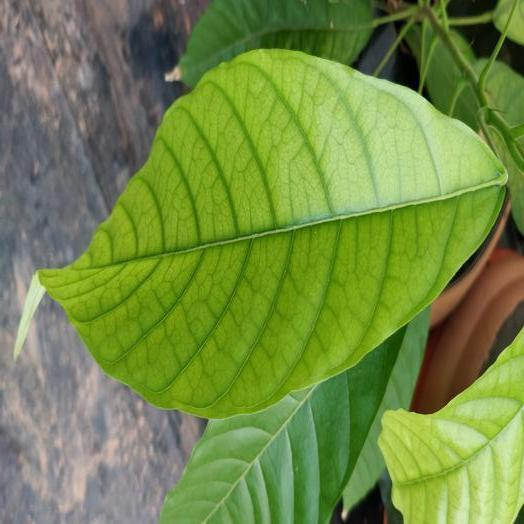Healthy Leaf: (159, 314, 426, 523), (175, 0, 372, 86)
Iron: (30, 50, 505, 417), (379, 329, 523, 523)
